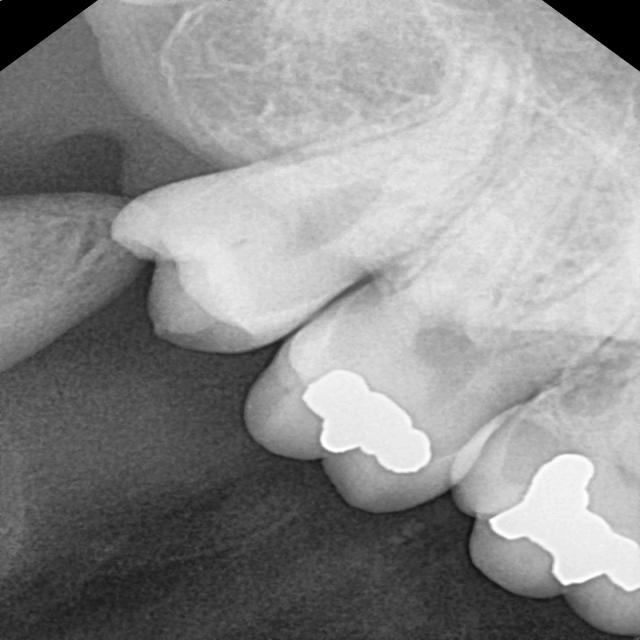Restoration: (486, 452, 640, 596), (298, 363, 446, 479)
